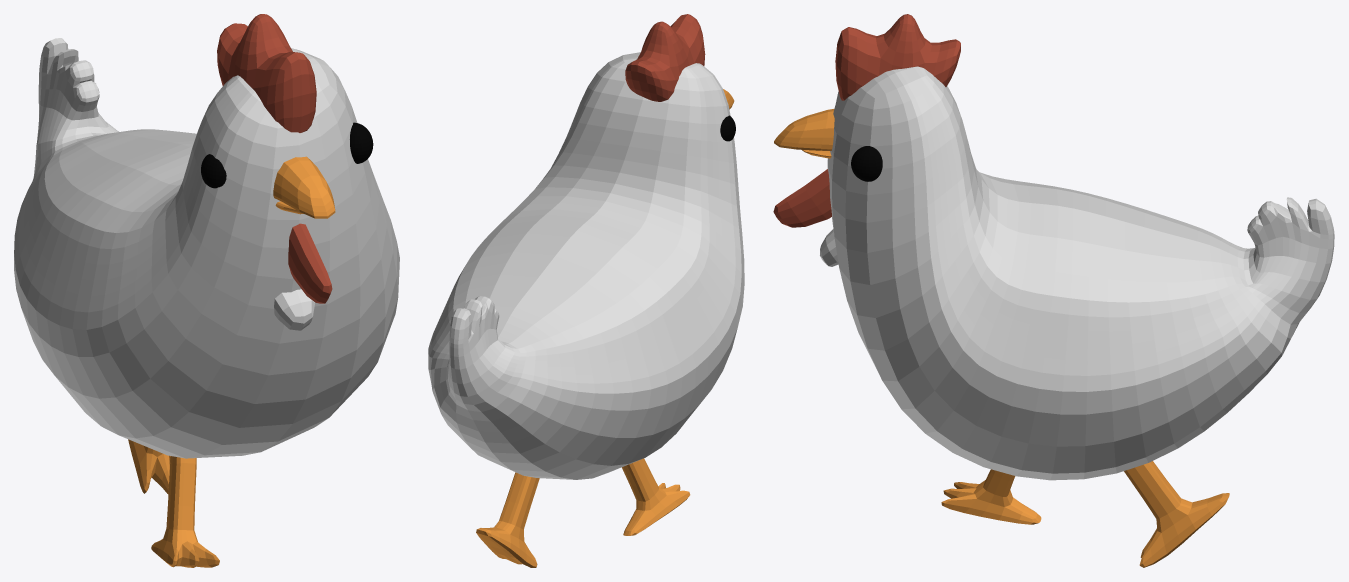
The model's file is chicken28.11.2023.fbx.
3 renders of one model, left to right at view 1: azimuth 30°, elevation 25°; view 2: azimuth 150°, elevation 25°; view 3: azimuth 270°, elevation 25°, orthographic. The views are drawn at different scales.
Visible parts, largest first — view 1: Cube, Cube.004, Cube.008, Cube.001, Cube.003, Cube.007, Cube.006, Cube.005, Cube.002; view 2: Cube, Cube.004, Cube.007, Cube.008; view 3: Cube, Cube.004, Cube.007, Cube.008, Cube.003, Cube.001, Cube.005.
Boxes of the visible parts, x1,y1,x2,y2 form: Cube: (14, 38, 399, 458); Cube.004: (217, 14, 316, 132); Cube.008: (151, 456, 219, 567); Cube.001: (273, 156, 335, 218); Cube.003: (288, 223, 332, 303); Cube.007: (128, 439, 170, 494); Cube.006: (274, 289, 314, 330); Cube.005: (350, 122, 373, 163); Cube.002: (201, 154, 226, 188); Cube: (428, 52, 744, 479); Cube.004: (625, 14, 705, 101); Cube.007: (476, 472, 539, 567); Cube.008: (622, 458, 690, 535); Cube: (827, 66, 1334, 480); Cube.004: (835, 14, 960, 100); Cube.007: (1124, 461, 1229, 567); Cube.008: (941, 469, 1041, 524); Cube.003: (773, 169, 831, 227); Cube.001: (774, 109, 834, 158); Cube.005: (851, 146, 882, 181).
Size of the model in its own units: 20.5 by 37.95 by 36.58.
